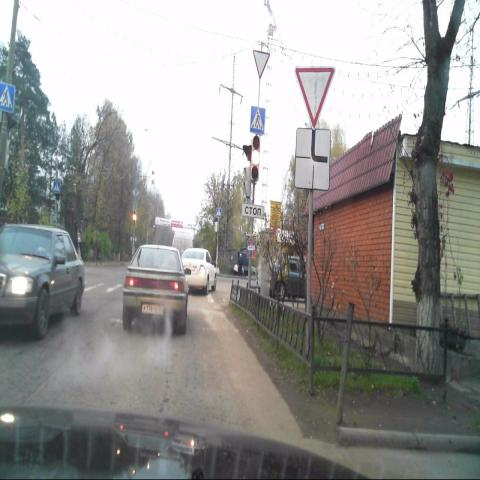8_13: (294, 129, 331, 189)
